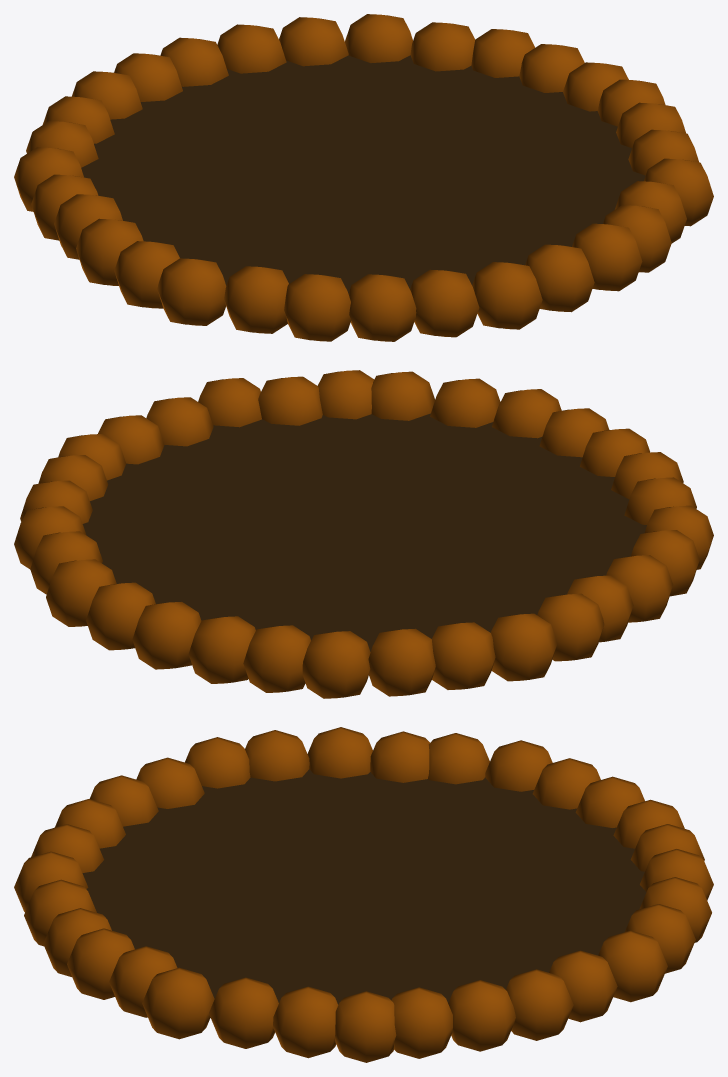
Rendered from hole.fbx.
3 views of the same model, one above another, from view 1: azimuth 30°, elevation 25°; view 2: azimuth 150°, elevation 25°; view 3: azimuth 270°, elevation 25° (orthographic).
Visible parts, largest first — view 1: Circle, Cube.009; view 2: Circle, Cube.009; view 3: Circle, Cube.009.
Part boxes in pixels (box(x1,y1,x2,y2)): Circle: box(81, 55, 645, 293); Cube.009: box(14, 14, 713, 341); Circle: box(82, 413, 646, 651); Cube.009: box(14, 370, 713, 698); Circle: box(82, 769, 646, 1004); Cube.009: box(14, 727, 713, 1062).
Size of the model in its own units: 429 by 45.59 by 429.
